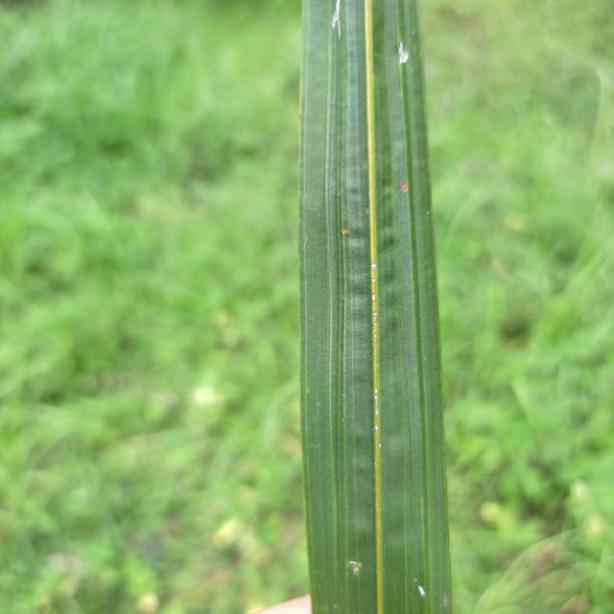Boron: (296, 0, 456, 614)
